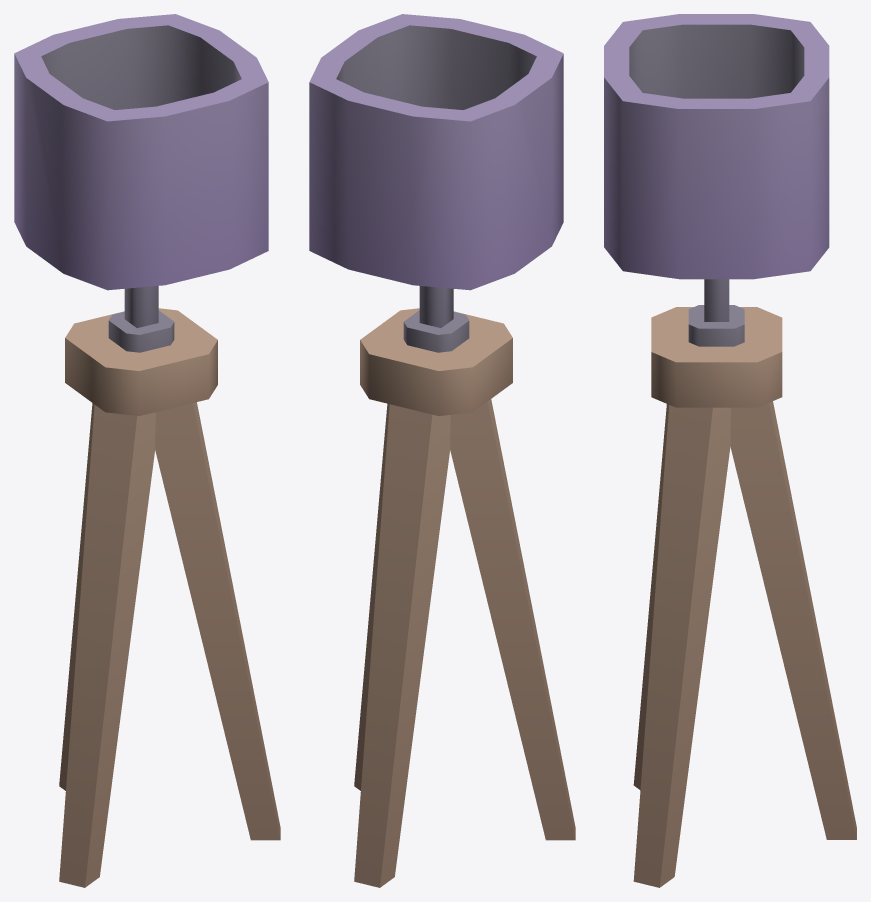
Rendered from lamp-straight-tripod.glb.
3 views of the same model, side by side, from view 1: azimuth 30°, elevation 25°; view 2: azimuth 150°, elevation 25°; view 3: azimuth 270°, elevation 25° (orthographic).
Parts seen in each view (by area): view 1: lamp-straight-tripod; view 2: lamp-straight-tripod; view 3: lamp-straight-tripod.
Part boxes in pixels (x1,y1,x2,y2): lamp-straight-tripod: [14, 14, 280, 887]; lamp-straight-tripod: [309, 14, 575, 887]; lamp-straight-tripod: [604, 14, 856, 887].
Size of the model in its own units: 0.2575 by 0.8512 by 0.2525.
